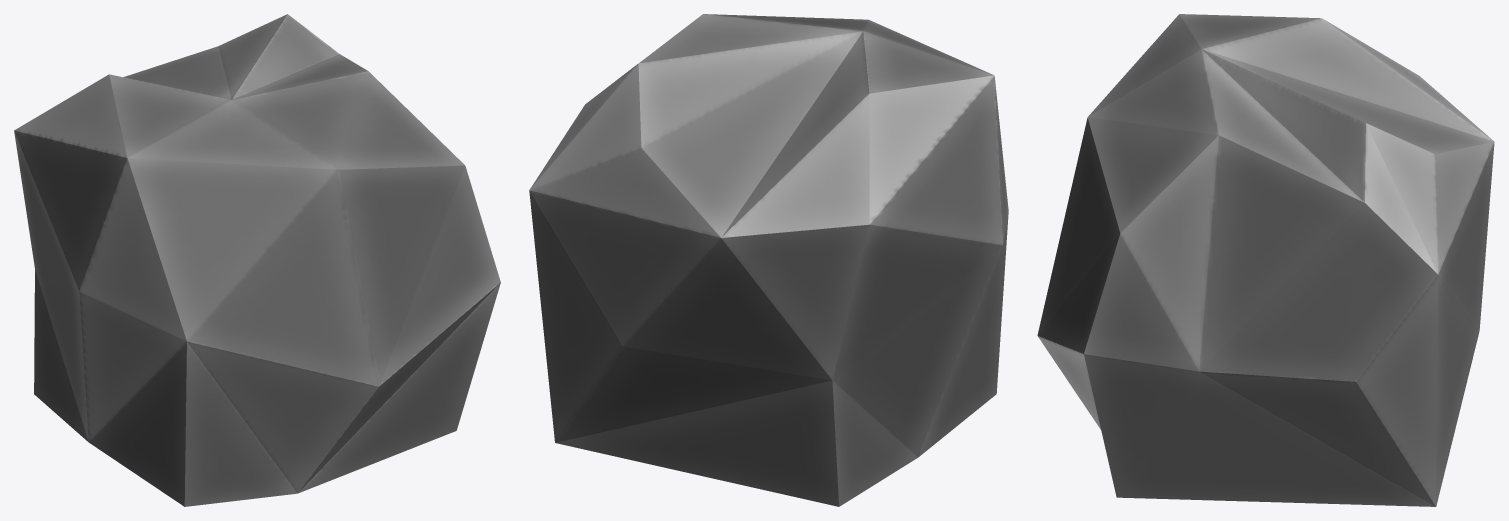
The model's file is Solid_Rock_3.fbx.
The picture shows the model from 3 angles, left to right: view 1: azimuth 30°, elevation 25°; view 2: azimuth 150°, elevation 25°; view 3: azimuth 270°, elevation 25°; orthographic projection. The views are drawn at different scales.
Parts seen in each view (by area): view 1: Solid_Rock_3; view 2: Solid_Rock_3; view 3: Solid_Rock_3.
Part boxes in pixels (x1,y1,x2,y2): Solid_Rock_3: (14,14,500,506); Solid_Rock_3: (529,14,1008,506); Solid_Rock_3: (1037,14,1494,506).
Bounding box in the file's own units: 139 × 132 × 146.
Materials: 1 (1 with a texture image).
